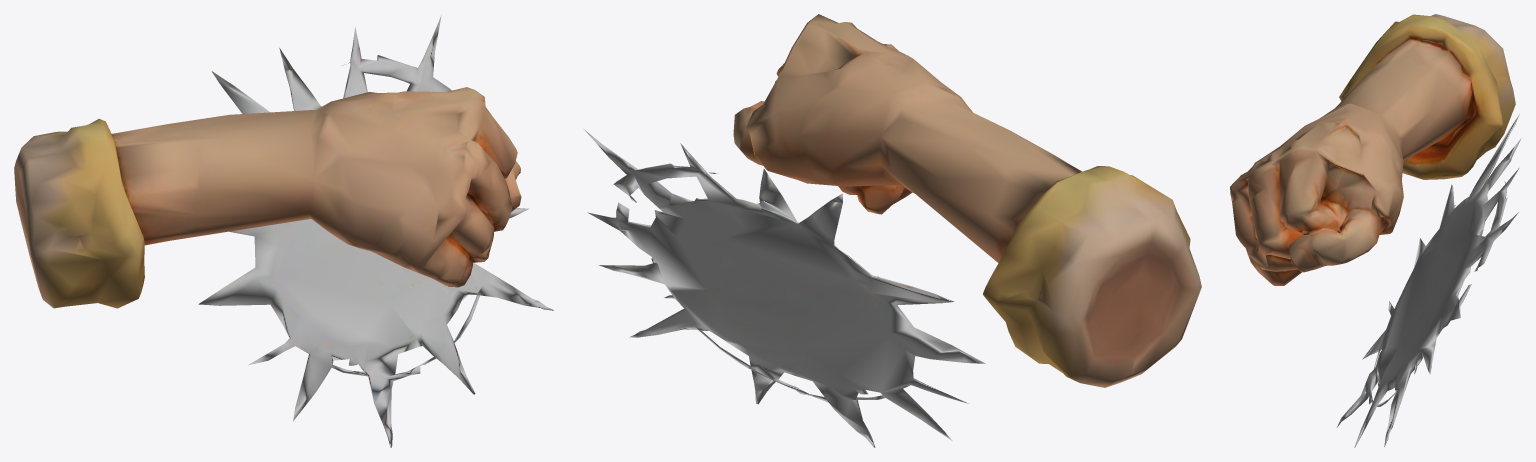
File: rubber_z.glb
3 renders of one model, left to right at view 1: azimuth 30°, elevation 25°; view 2: azimuth 150°, elevation 25°; view 3: azimuth 270°, elevation 25°, orthographic. The views are drawn at different scales.
Parts seen in each view (by area): view 1: tripo_node_c66ad6b5-7fea-4a45-87b1-0087ef32bf8f; view 2: tripo_node_c66ad6b5-7fea-4a45-87b1-0087ef32bf8f; view 3: tripo_node_c66ad6b5-7fea-4a45-87b1-0087ef32bf8f.
Part boxes in pixels (x1,y1,x2,y2): tripo_node_c66ad6b5-7fea-4a45-87b1-0087ef32bf8f: [14, 15, 553, 447]; tripo_node_c66ad6b5-7fea-4a45-87b1-0087ef32bf8f: [584, 14, 1201, 447]; tripo_node_c66ad6b5-7fea-4a45-87b1-0087ef32bf8f: [1230, 14, 1521, 447].
Size of the model in its own units: 0.9789 by 0.6395 by 0.5449.
Materials: 1 (1 with a texture image).
